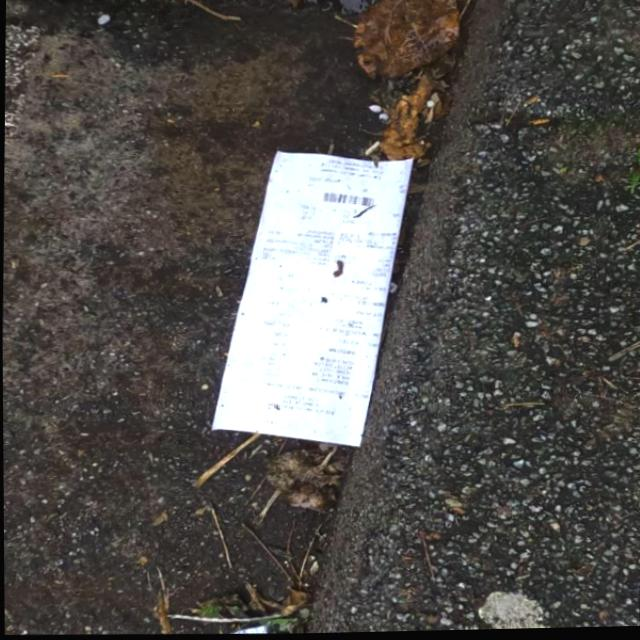Paper: (204, 145, 419, 454)
